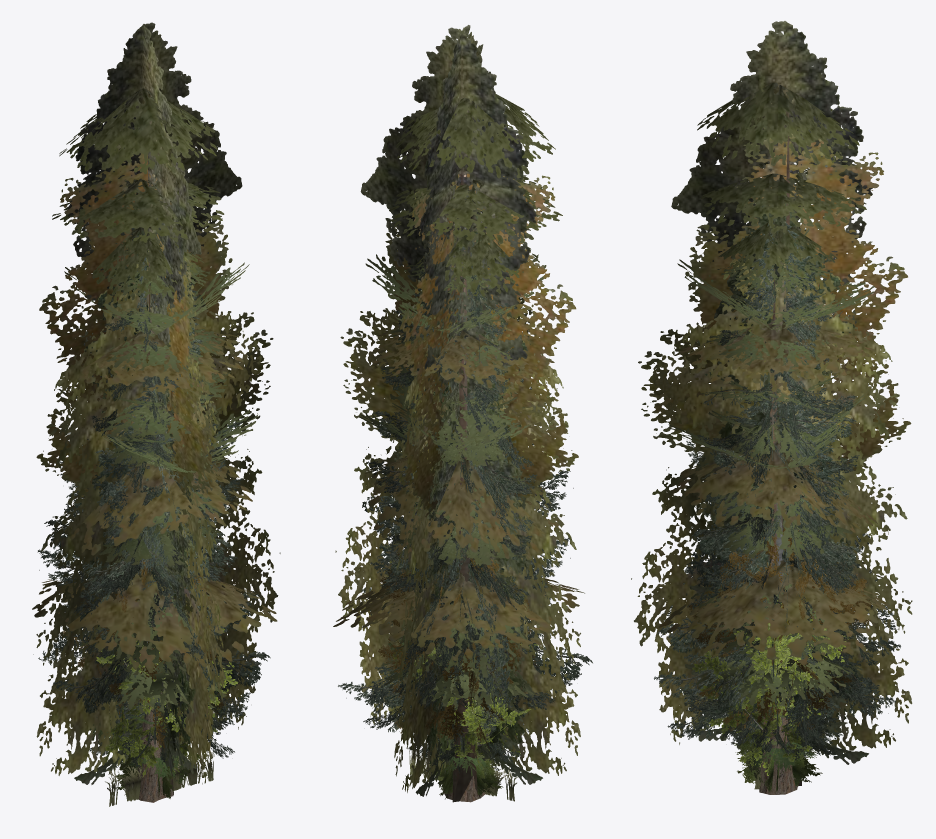
Rendered from trees.glb.
3 renders of one model, left to right at view 1: azimuth 30°, elevation 25°; view 2: azimuth 150°, elevation 25°; view 3: azimuth 270°, elevation 25°, orthographic.
Parts seen in each view (by area): view 1: bb_7, bb_5, bb_8, tree_2, tree_3, bb_4, bb_2, bb_6, bb_3, broad_1, tree_4, shrub_5 (+3 smaller); view 2: bb_7, bb_5, bb_8, tree_3, tree_2, bb_4, bb_3, bb_6, tree_4, bb_2, broad_1, tree_1 (+4 smaller); view 3: bb_7, bb_5, bb_8, tree_3, tree_2, bb_6, bb_3, bb_2, broad_1, tree_4, tree_1, bb_4 (+3 smaller).
Part boxes in pixels (x1=…): bb_7: x1=32, y1=250, x2=280, y2=795; bb_5: x1=52, y1=22, x2=242, y2=701; bb_8: x1=36, y1=132, x2=273, y2=618; tree_2: x1=33, y1=378, x2=270, y2=800; tree_3: x1=58, y1=228, x2=243, y2=802; bb_4: x1=77, y1=239, x2=222, y2=718; bb_2: x1=85, y1=228, x2=230, y2=554; bb_6: x1=73, y1=465, x2=227, y2=784; bb_3: x1=73, y1=340, x2=224, y2=758; broad_1: x1=85, y1=628, x2=237, y2=777; tree_4: x1=63, y1=557, x2=223, y2=751; shrub_5: x1=105, y1=744, x2=214, y2=806; bb_7: x1=333, y1=303, x2=584, y2=792; bb_5: x1=360, y1=25, x2=562, y2=802; bb_8: x1=340, y1=173, x2=578, y2=608; tree_3: x1=362, y1=232, x2=573, y2=802; tree_2: x1=338, y1=392, x2=592, y2=791; bb_4: x1=389, y1=269, x2=537, y2=725; bb_3: x1=381, y1=231, x2=535, y2=761; bb_6: x1=380, y1=483, x2=542, y2=796; tree_4: x1=378, y1=548, x2=542, y2=748; bb_2: x1=385, y1=213, x2=530, y2=520; broad_1: x1=392, y1=628, x2=538, y2=763; tree_1: x1=408, y1=577, x2=528, y2=775; bb_7: x1=631, y1=254, x2=912, y2=792; bb_5: x1=671, y1=21, x2=872, y2=785; bb_8: x1=638, y1=126, x2=911, y2=580; tree_3: x1=684, y1=219, x2=863, y2=794; tree_2: x1=654, y1=373, x2=900, y2=758; bb_6: x1=685, y1=373, x2=868, y2=764; bb_3: x1=705, y1=214, x2=862, y2=734; bb_2: x1=695, y1=203, x2=855, y2=522; broad_1: x1=692, y1=600, x2=848, y2=775; tree_4: x1=689, y1=519, x2=871, y2=736; tree_1: x1=718, y1=564, x2=842, y2=760; bb_4: x1=691, y1=297, x2=862, y2=658.
Bounding box in the file's own units: 11.4 × 33.27 × 11.4.
7 materials, 7 textured.
